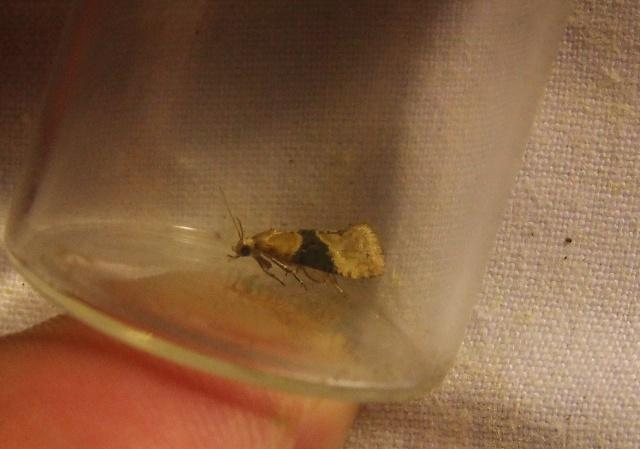Eupoecilia Ambiguella: (213, 183, 388, 300)
